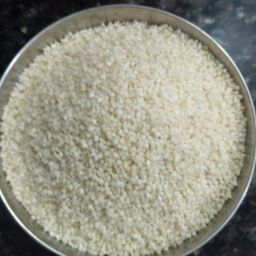Barnyard Millet(samak): (4, 18, 254, 248), (30, 15, 215, 192), (37, 39, 148, 254), (108, 74, 213, 254), (2, 68, 97, 241), (171, 50, 250, 255)
